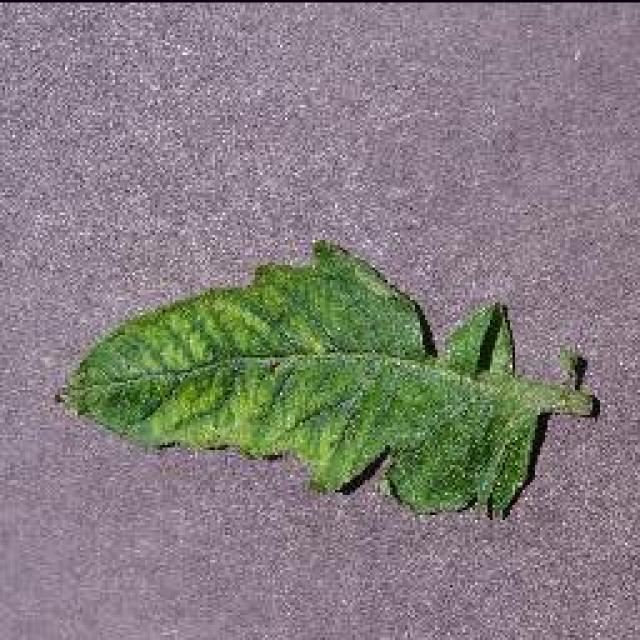Tomato___Tomato_mosaic_virus: (62, 242, 592, 512)
